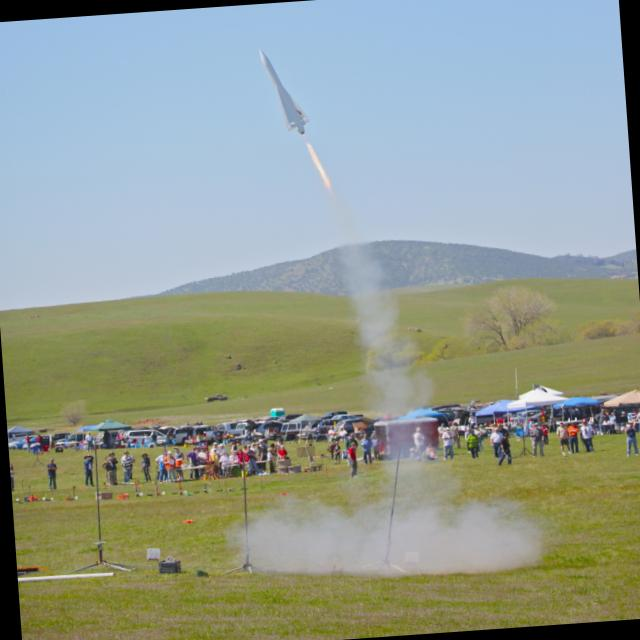rocket: (251, 37, 323, 164)
